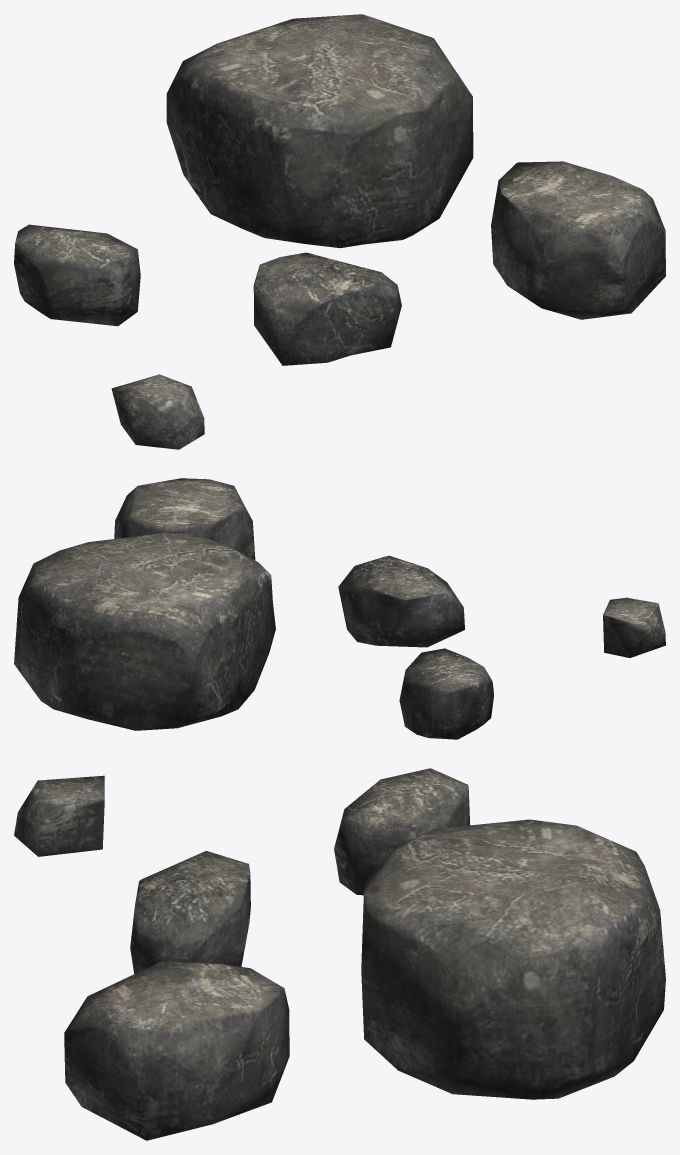
File: env_pebbles.glb
3 renders of one model, top to bottom at view 1: azimuth 30°, elevation 25°; view 2: azimuth 150°, elevation 25°; view 3: azimuth 270°, elevation 25°, orthographic. The views are drawn at different scales.
Visible parts, largest first — view 1: smallrock5, smallrock4, smallrock3, smallrock2, smallrock1; view 2: smallrock5, smallrock3, smallrock4, smallrock2, smallrock1; view 3: smallrock5, smallrock4, smallrock3, smallrock2, smallrock1.
Part boxes in pixels (left/top/right/bottom): smallrock5: left=166, top=14, right=473, bottom=248; smallrock4: left=491, top=161, right=665, bottom=319; smallrock3: left=253, top=252, right=401, bottom=365; smallrock2: left=14, top=224, right=140, bottom=326; smallrock1: left=111, top=374, right=204, bottom=449; smallrock5: left=14, top=532, right=275, bottom=730; smallrock3: left=338, top=555, right=464, bottom=647; smallrock4: left=114, top=478, right=255, bottom=560; smallrock2: left=399, top=648, right=493, bottom=739; smallrock1: left=603, top=597, right=665, bottom=657; smallrock5: left=361, top=819, right=665, bottom=1099; smallrock4: left=64, top=961, right=289, bottom=1140; smallrock3: left=130, top=851, right=250, bottom=973; smallrock2: left=334, top=768, right=469, bottom=895; smallrock1: left=14, top=775, right=104, bottom=856.
Size of the model in its own units: 2.24 by 0.575 by 1.93.
1 material, 1 textured.
